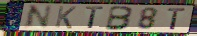8: (137, 7, 159, 31)
B: (104, 5, 135, 31)
K: (53, 5, 78, 30)
N: (22, 4, 54, 30)
T: (85, 5, 106, 30), (167, 7, 188, 31)
